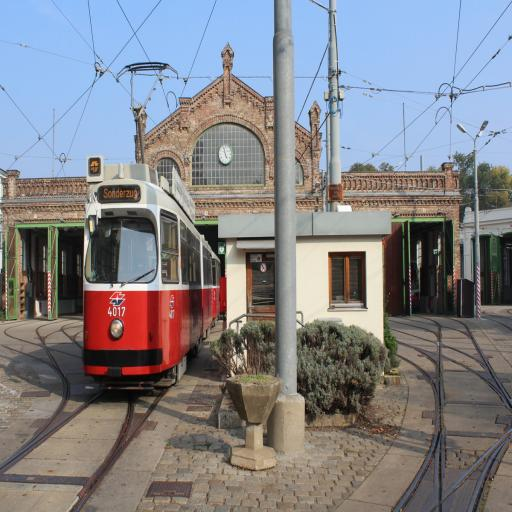E2-Tram: (82, 152, 227, 398)
